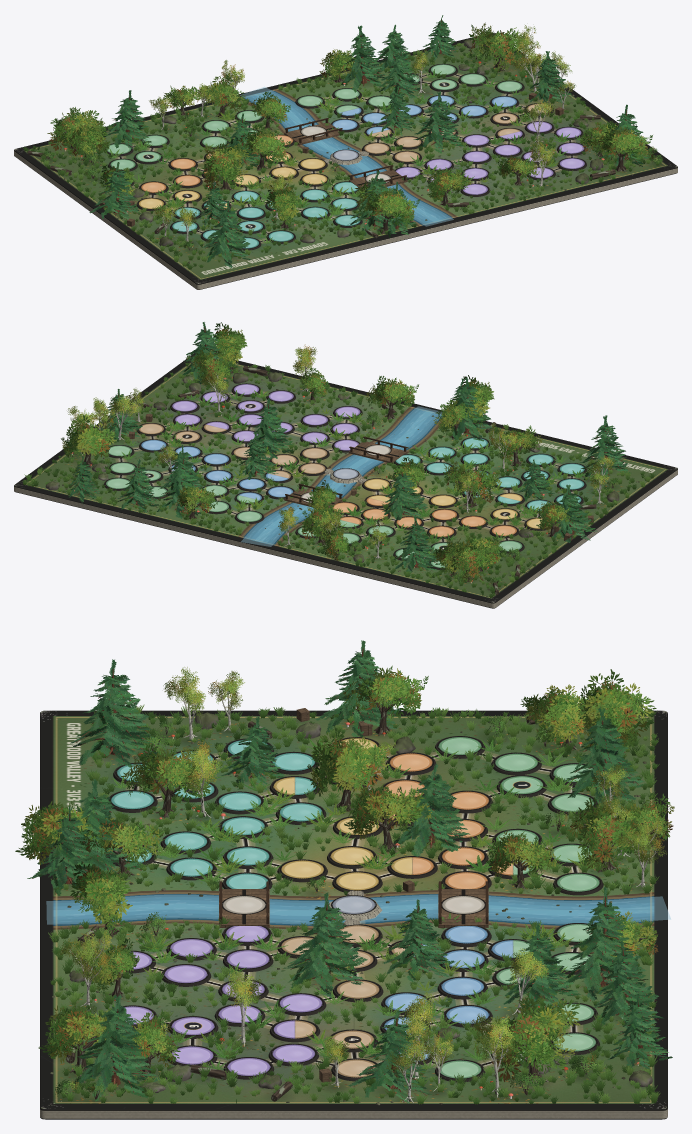
The model's file is valley.glb.
3 renders of one model, top to bottom at view 1: azimuth 30°, elevation 25°; view 2: azimuth 150°, elevation 25°; view 3: azimuth 270°, elevation 25°, orthographic. The views are drawn at different scales.
Parts seen in each view (by area): view 1: scenery (×21), board (×2); view 2: scenery (×21), board (×2); view 3: scenery (×25), board (×19).
Boxes of the visible parts, left/top/right/bottom form: scenery (×21): left=22, top=15, right=662, bottom=269; board (×2): left=14, top=32, right=677, bottom=289; scenery (×21): left=22, top=322, right=655, bottom=597; board (×2): left=14, top=353, right=677, bottom=608; scenery (×25): left=15, top=640, right=674, bottom=1105; board (×19): left=40, top=710, right=667, bottom=1119.
Size of the model in its own units: 15.26 by 1.89 by 10.49.
Materials: 37 (31 with a texture image).
